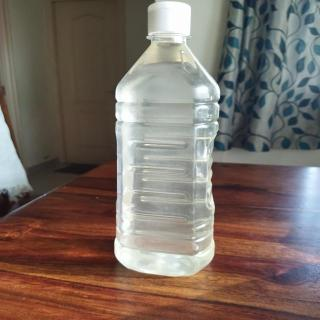Plastic-bottle: (109, 2, 222, 282)
